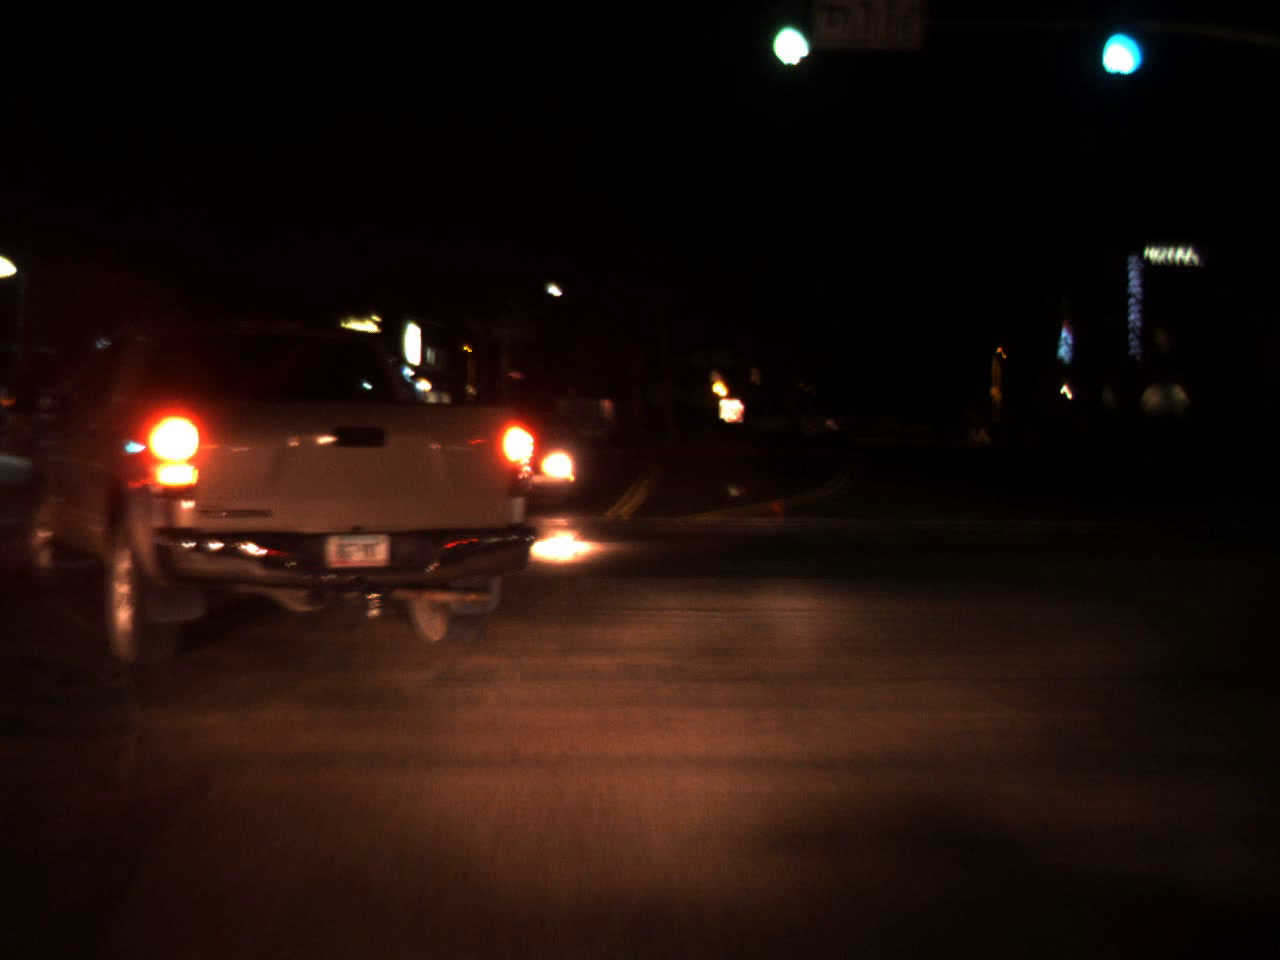go: (753, 0, 819, 77), (1090, 2, 1140, 86)
